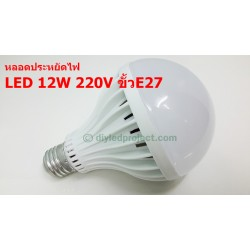Light_bulb: (40, 58, 218, 186)
